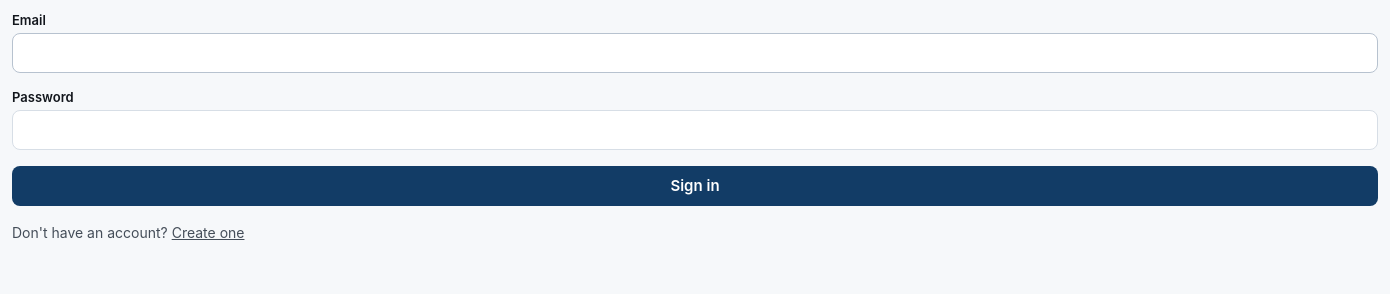
Test: LoginForm (Tracking + Notifications) › shows an accessible error and does not redirect on failure
Step 1. Type "a@example-test.invalid" into the field labelled "Email" → (695, 53), box [12, 33, 1378, 73]
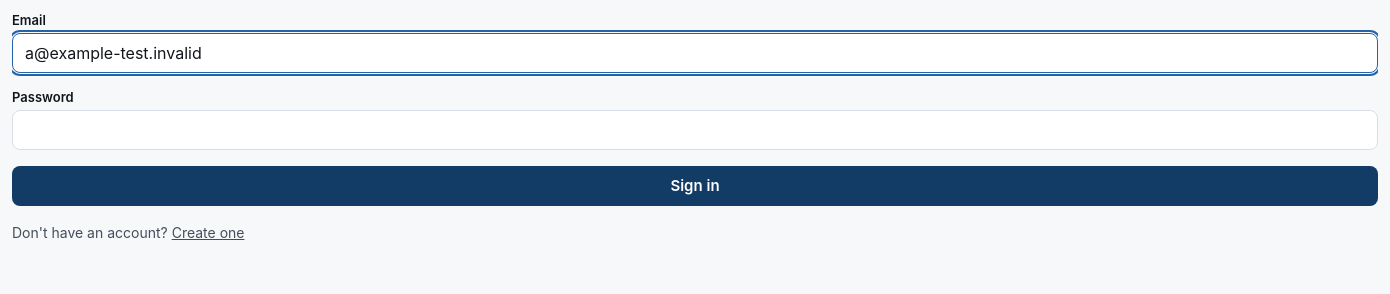
Step 2. Type "wrong-password" into the password field labelled "Password" → (695, 130), box [12, 110, 1378, 150]
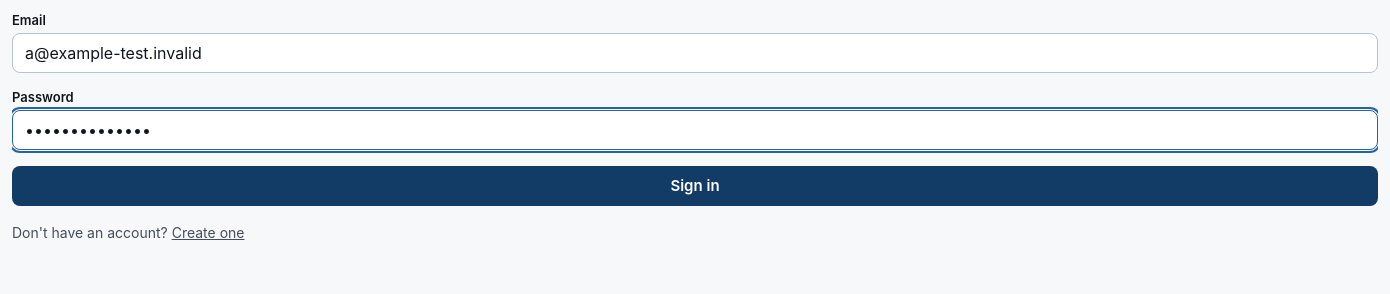
Step 3. Click the button "Sign in" → (695, 186), box [12, 166, 1378, 206]
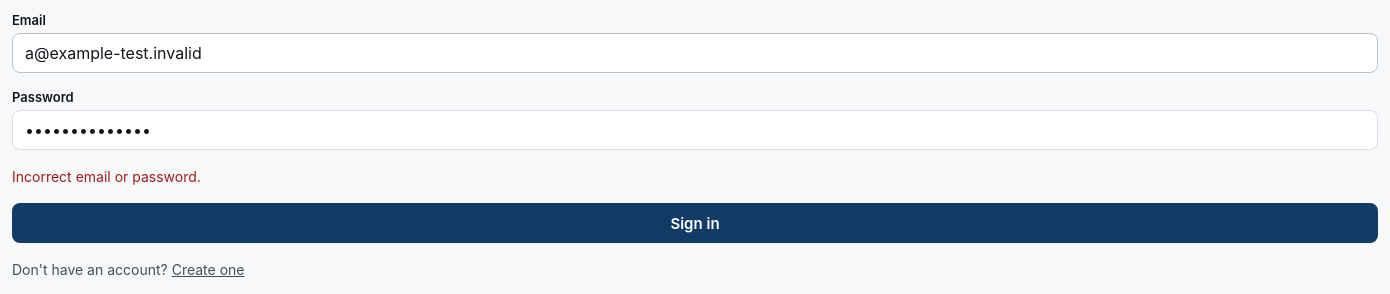
Now the message reads "Incorrect email or password.", box [12, 168, 201, 185]
